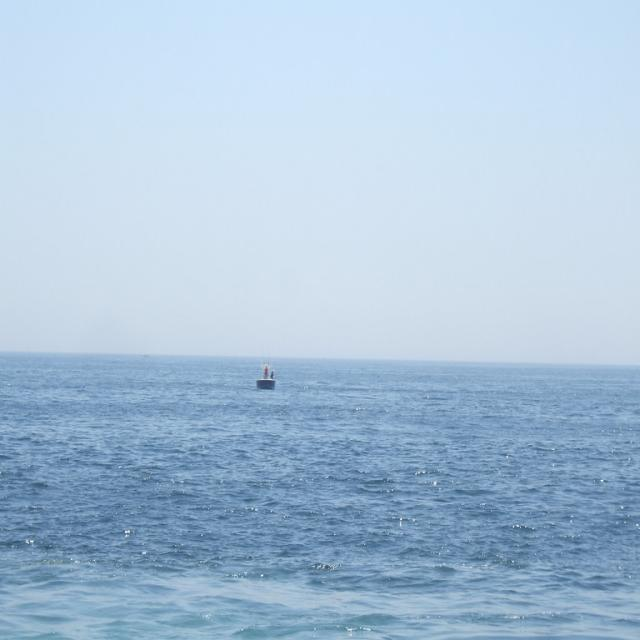buoy: (254, 352, 280, 392)
